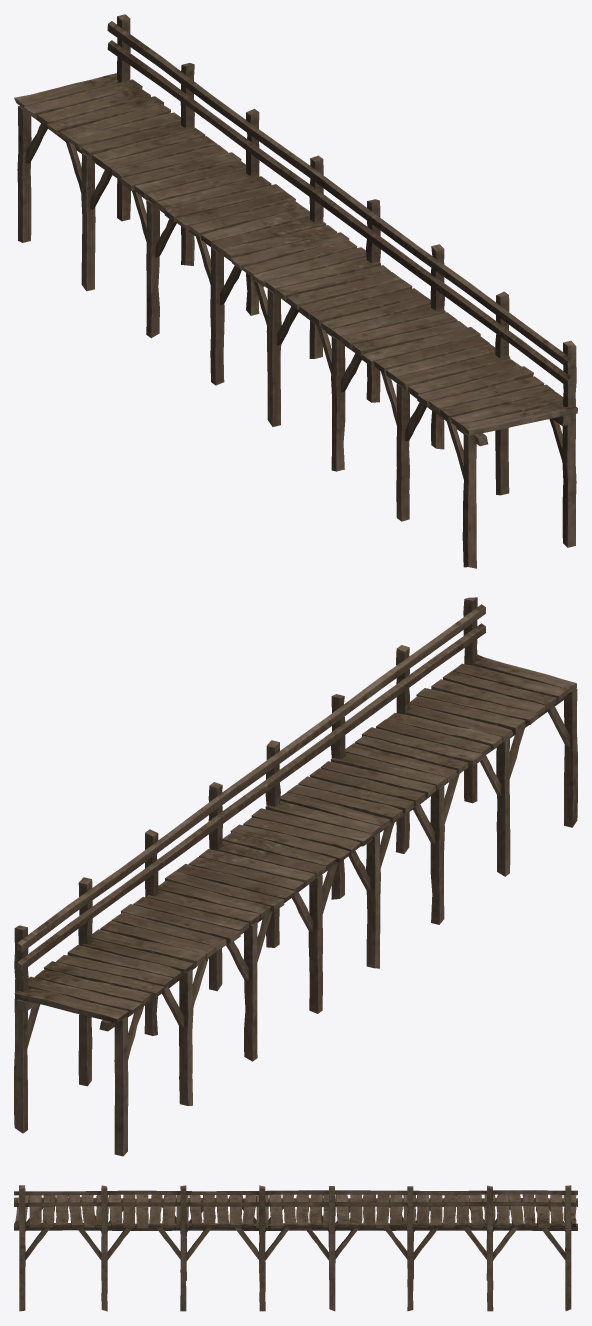
Rendered from old-bridge.zfix-v1.lod0.glb.
The picture shows the model from 3 angles, top to bottom: view 1: azimuth 30°, elevation 25°; view 2: azimuth 150°, elevation 25°; view 3: azimuth 270°, elevation 25°; orthographic projection. The views are drawn at different scales.
Visible parts, largest first — view 1: defaultMaterial; view 2: defaultMaterial; view 3: defaultMaterial.
Boxes of the visible parts, <box> form: defaultMaterial: <box>14,14,577,568</box>; defaultMaterial: <box>14,597,577,1156</box>; defaultMaterial: <box>14,1185,577,1311</box>.
Bounding box in the file's own units: 2.63 × 4.59 × 19.
1 material, 1 textured.
